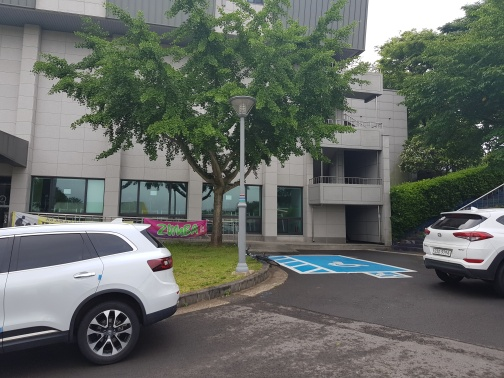Gym: (5, 5, 414, 228), (312, 66, 401, 232)
